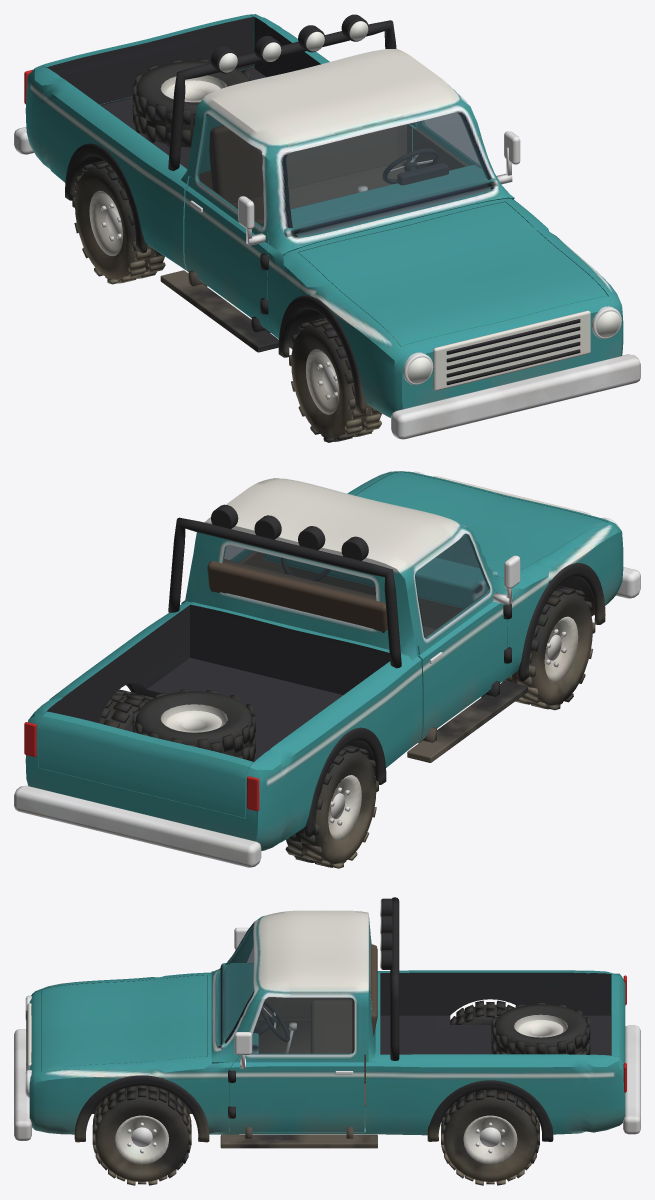
The model's file is pickup-truck.glb.
The picture shows the model from 3 angles, top to bottom: view 1: azimuth 30°, elevation 25°; view 2: azimuth 150°, elevation 25°; view 3: azimuth 270°, elevation 25°; orthographic projection. The views are drawn at different scales.
Visible parts, largest first — view 1: body, hood, cabin, glass_windscreen, bumper_front, tailgate, door_r, bench_back, dash, grille, glass_door_r, wheel_fr_tyre (+21 smaller); view 2: body, cabin, tailgate, hood, door_r, bumper_rear, bench_back, glass_door_r, roll_bar, wheel_rr_tyre, wheel_fr_tyre, dash (+14 smaller); view 3: body, cabin, hood, door_l, glass_door_l, wheel_fl_tyre, wheel_rl_tyre, glass_windscreen, _wheel_tmp_tyre, step_l, bench, flare_fl (+17 smaller).
Boxes of the visible parts, x1=… form: body: x1=25, y1=14, x2=623, y2=417; hood: x1=298, y1=202, x2=607, y2=346; cabin: x1=181, y1=49, x2=514, y2=255; glass_windscreen: x1=286, y1=112, x2=490, y2=237; bumper_front: x1=391, y1=354, x2=640, y2=439; tailgate: x1=42, y1=14, x2=253, y2=104; door_r: x1=184, y1=176, x2=270, y2=331; bench_back: x1=209, y1=125, x2=399, y2=202; dash: x1=284, y1=165, x2=497, y2=237; grille: x1=433, y1=310, x2=590, y2=390; glass_door_r: x1=197, y1=114, x2=263, y2=227; wheel_fr_tyre: x1=291, y1=325, x2=381, y2=438; body: x1=25, y1=471, x2=623, y2=850; cabin: x1=181, y1=478, x2=506, y2=659; tailgate: x1=38, y1=711, x2=253, y2=817; hood: x1=355, y1=472, x2=607, y2=578; door_r: x1=417, y1=590, x2=507, y2=740; bumper_rear: x1=14, y1=785, x2=261, y2=867; bench_back: x1=207, y1=559, x2=387, y2=632; glass_door_r: x1=415, y1=533, x2=490, y2=638; roll_bar: x1=168, y1=517, x2=401, y2=668; wheel_rr_tyre: x1=286, y1=751, x2=376, y2=864; wheel_fr_tyre: x1=502, y1=592, x2=592, y2=705; dash: x1=264, y1=553, x2=497, y2=608; body: x1=29, y1=970, x2=625, y2=1135; cabin: x1=211, y1=910, x2=375, y2=1063; hood: x1=41, y1=975, x2=206, y2=1071; door_l: x1=230, y1=1053, x2=364, y2=1132; glass_door_l: x1=251, y1=997, x2=352, y2=1054; wheel_fl_tyre: x1=95, y1=1086, x2=188, y2=1181; wheel_rl_tyre: x1=443, y1=1090, x2=537, y2=1181; glass_windscreen: x1=215, y1=924, x2=253, y2=1045; _wheel_tmp_tyre: x1=493, y1=1004, x2=588, y2=1054; step_l: x1=220, y1=1134, x2=377, y2=1148; bench: x1=310, y1=1000, x2=365, y2=1083; flare_fl: x1=74, y1=1075, x2=209, y2=1142.
Bounding box in the file's own units: 2.27 × 2.09 × 5.58.
Materials: 4 (1 with a texture image).
